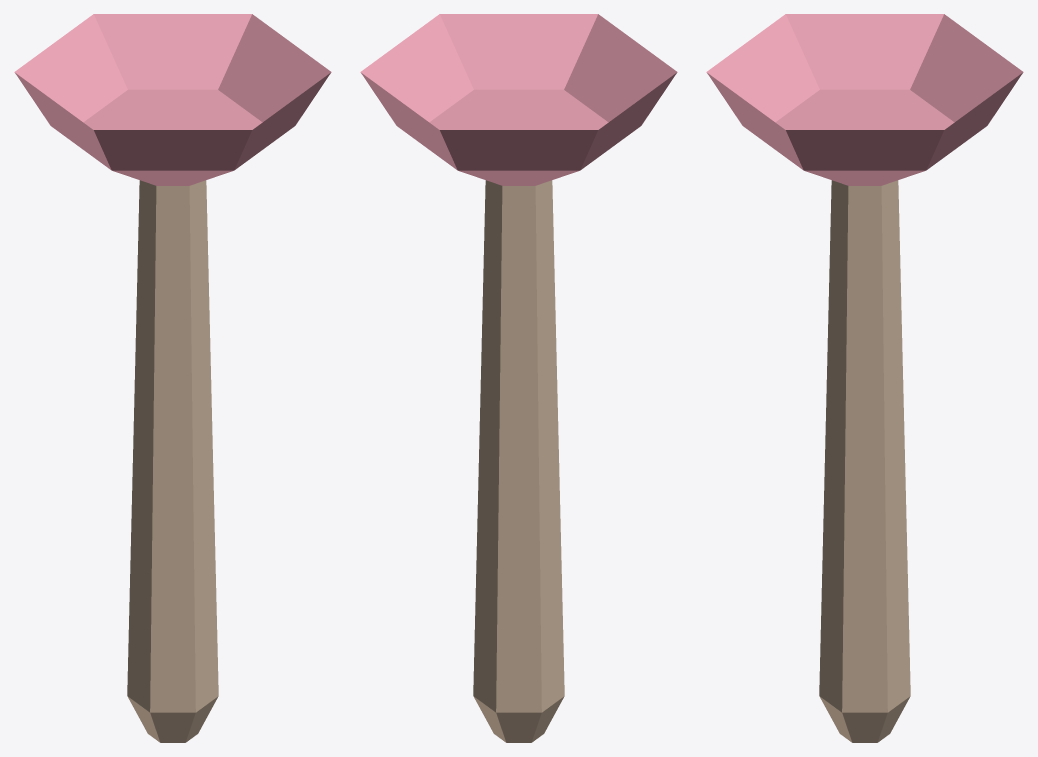
The model's file is Plunger.fbx.
3 renders of one model, left to right at view 1: azimuth 30°, elevation 25°; view 2: azimuth 150°, elevation 25°; view 3: azimuth 270°, elevation 25°, orthographic.
Parts seen in each view (by area): view 1: Plunger; view 2: Plunger; view 3: Plunger.
Part boxes in pixels (x1=…): Plunger: x1=14, y1=14, x2=331, y2=742; Plunger: x1=360, y1=14, x2=677, y2=742; Plunger: x1=706, y1=14, x2=1023, y2=742.
Bounding box in the file's own units: 0.1472 × 0.3913 × 0.17.
